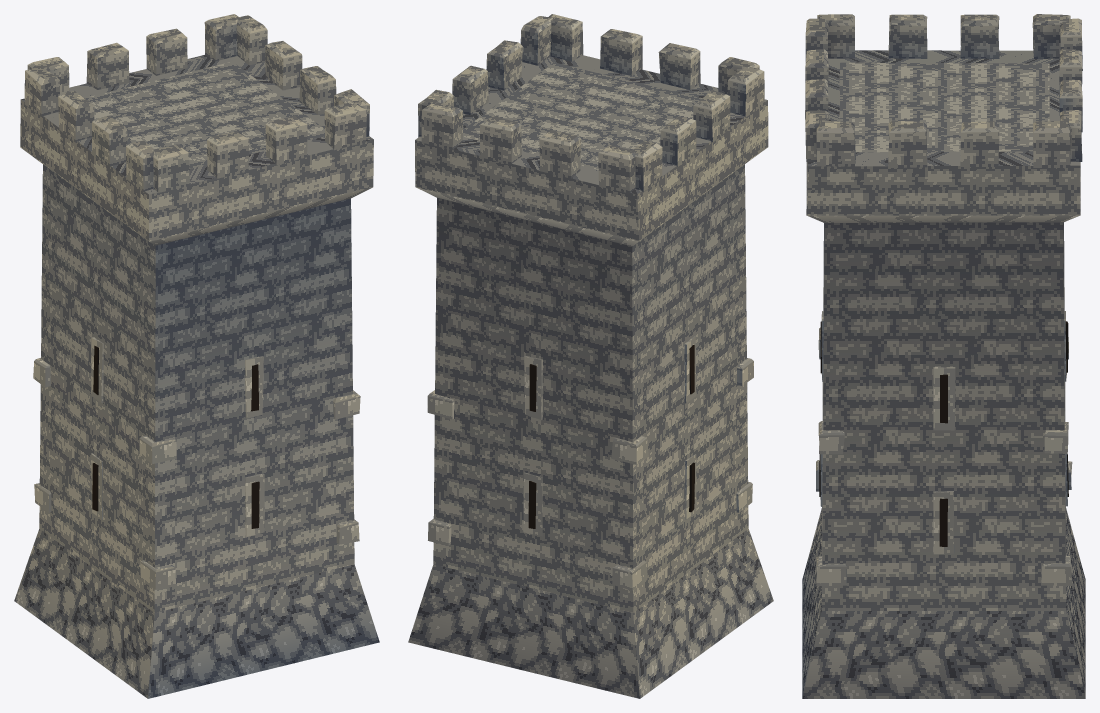
File: cst.tower_square.glb
3 renders of one model, left to right at view 1: azimuth 30°, elevation 25°; view 2: azimuth 150°, elevation 25°; view 3: azimuth 270°, elevation 25°, orthographic. The views are drawn at different scales.
Parts seen in each view (by area): view 1: kit_shaft, kit_top, kit_detail; view 2: kit_shaft, kit_top, kit_detail; view 3: kit_shaft, kit_top, kit_detail.
Boxes of the visible parts, x1,y1,x2,y2 form: kit_shaft: (14, 164, 379, 698); kit_top: (20, 14, 373, 245); kit_detail: (33, 337, 360, 589); kit_shaft: (408, 164, 773, 698); kit_top: (415, 14, 768, 246); kit_detail: (427, 336, 753, 590); kit_shaft: (802, 222, 1085, 698); kit_top: (805, 14, 1082, 222); kit_detail: (816, 311, 1072, 586).
Bounding box in the file's own units: 5.8 × 12.85 × 5.8.
Materials: 5 (5 with a texture image).
